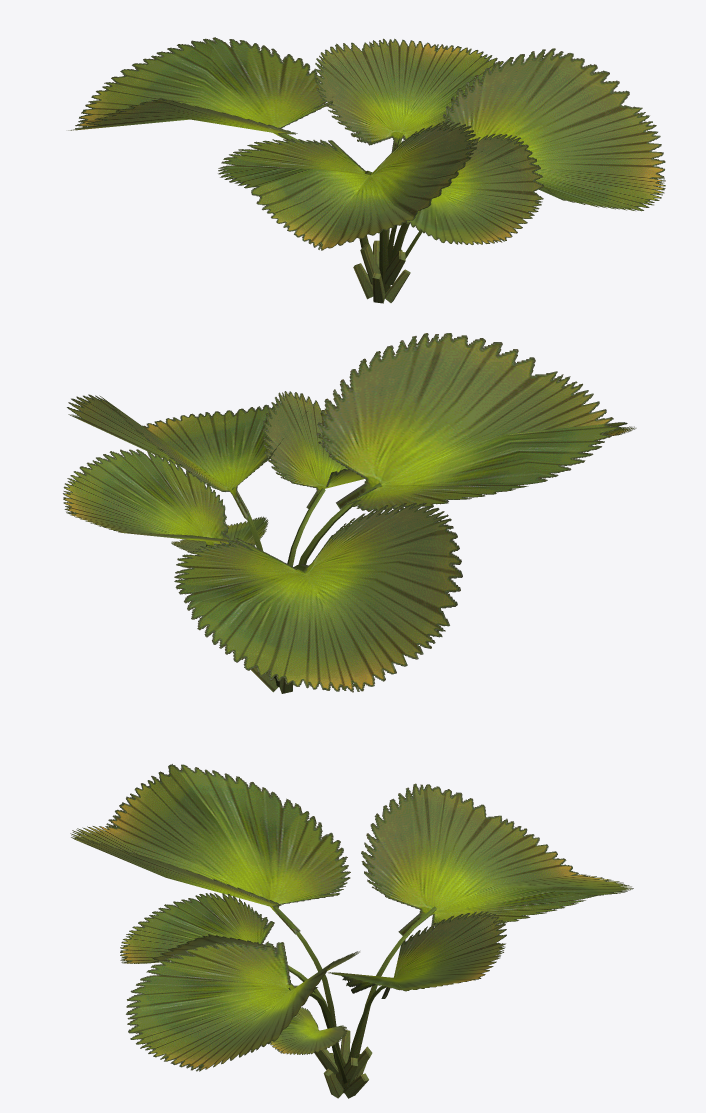
Rendered from Shrub-Toon-Ruffled-Palm.fbx.
The picture shows the model from 3 angles, top to bottom: view 1: azimuth 30°, elevation 25°; view 2: azimuth 150°, elevation 25°; view 3: azimuth 270°, elevation 25°; orthographic projection. The views are drawn at different scales.
Parts seen in each view (by area): view 1: RuffledPalm; view 2: RuffledPalm; view 3: RuffledPalm.
Boxes of the visible parts, left/top/right/bottom form: RuffledPalm: left=68, top=37, right=665, bottom=303; RuffledPalm: left=63, top=333, right=636, bottom=693; RuffledPalm: left=70, top=764, right=633, bottom=1098.
Bounding box in the file's own units: 119 × 48.69 × 126.
Materials: 1 (1 with a texture image).
